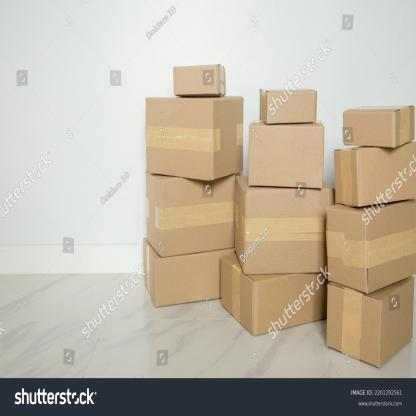box: (246, 192, 336, 273), (161, 172, 236, 256), (146, 98, 212, 180), (247, 127, 325, 188), (154, 250, 236, 307), (326, 286, 381, 370), (254, 273, 326, 337), (355, 141, 416, 208), (327, 206, 368, 294), (343, 109, 395, 147), (268, 90, 316, 124), (174, 63, 219, 94)
